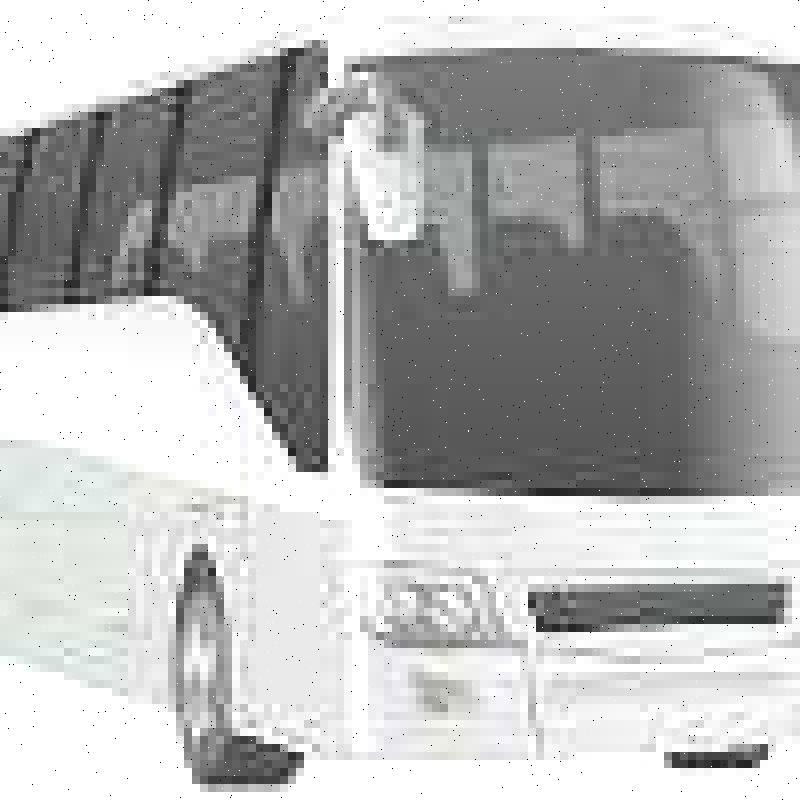bus: (2, 9, 800, 793)
